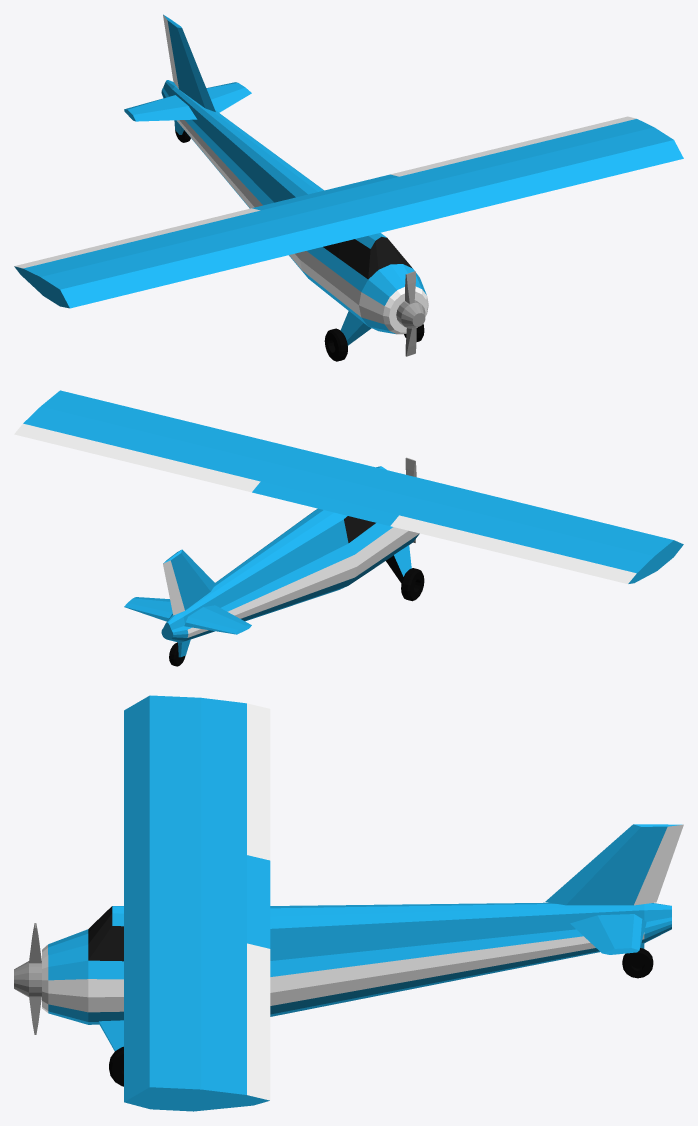
3 views of the same model, one above another, from view 1: azimuth 30°, elevation 25°; view 2: azimuth 150°, elevation 25°; view 3: azimuth 270°, elevation 25° (orthographic). The views are drawn at different scales.
Parts seen in each view (by area): view 1: Plane, Circle, Circle.002, Circle.001, Circle.003, Circle.006, Circle.007; view 2: Plane, Circle, Circle.001, Circle.002, Circle.003; view 3: Plane, Circle, Circle.001, Circle.002, Circle.003, Circle.006, Circle.004, Circle.007.
Boxes of the visible parts, <box> form: Plane: <box>14,116,683,308</box>; Circle: <box>161,80,428,334</box>; Circle.002: <box>124,82,251,121</box>; Circle.001: <box>163,14,215,111</box>; Circle.003: <box>324,311,424,361</box>; Circle.006: <box>396,300,425,328</box>; Circle.007: <box>405,271,416,356</box>; Plane: <box>14,390,683,583</box>; Circle: <box>161,466,419,642</box>; Circle.001: <box>163,549,215,615</box>; Circle.002: <box>124,597,251,634</box>; Circle.003: <box>386,545,424,601</box>; Plane: <box>124,695,270,1111</box>; Circle: <box>42,902,671,1024</box>; Circle.001: <box>545,824,683,905</box>; Circle.002: <box>570,914,646,954</box>; Circle.003: <box>99,1020,123,1086</box>; Circle.006: <box>14,961,41,997</box>; Circle.004: <box>622,948,653,978</box>; Circle.007: <box>29,923,41,1034</box>.
Bounding box in the file's own units: 10 × 2.83 × 7.23.
